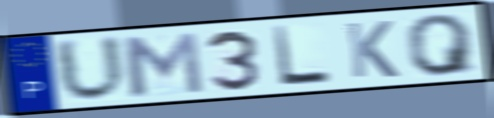3: (202, 27, 263, 93)
K: (343, 19, 402, 80)
L: (270, 24, 335, 89)
M: (118, 30, 207, 98)
Q: (403, 12, 479, 78)
U: (52, 33, 130, 104)
